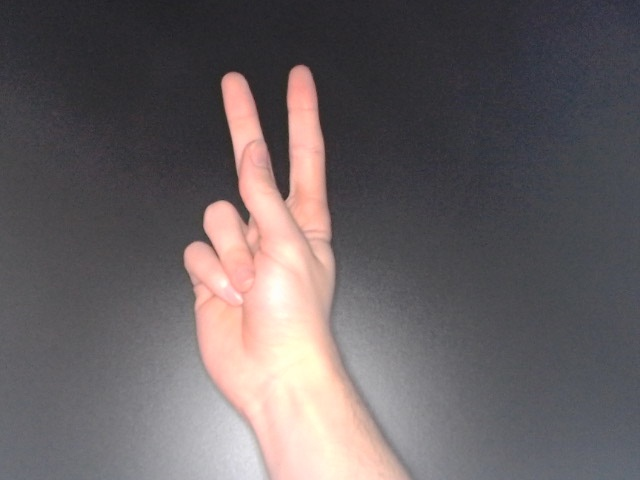k: (179, 62, 341, 439)
